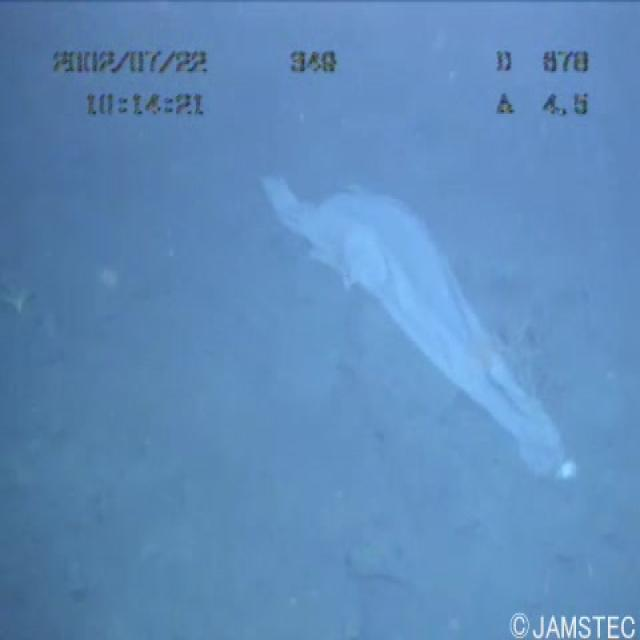plastic: (245, 137, 591, 489)
